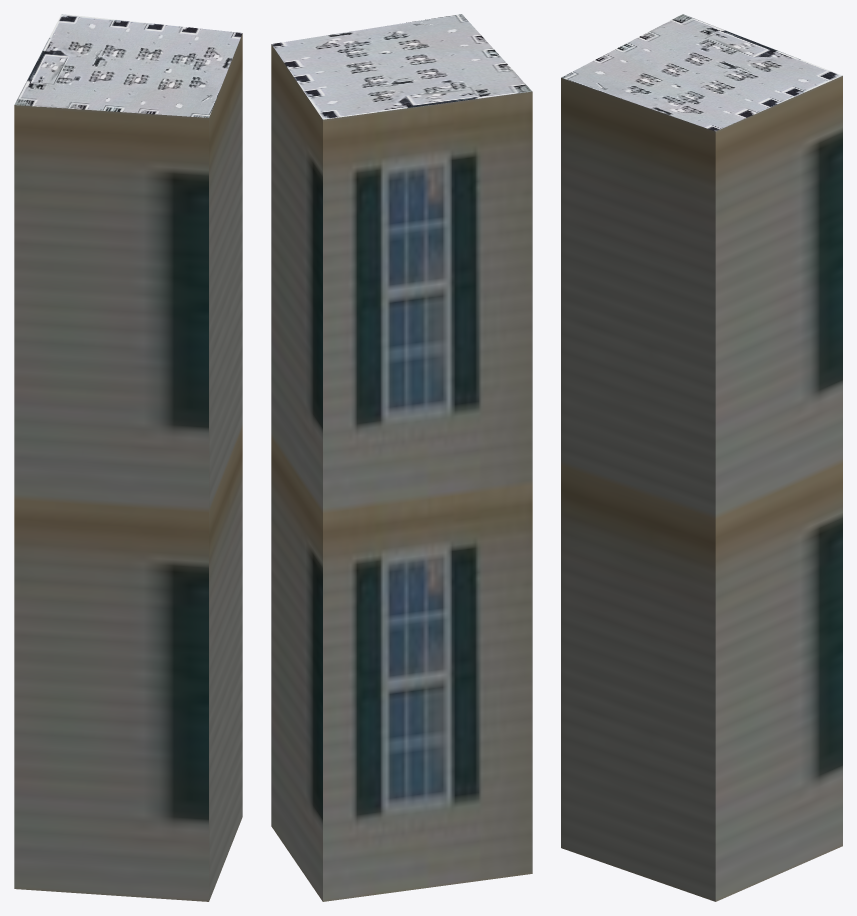
Rendered from ResTex__2142.fbx.
3 renders of one model, left to right at view 1: azimuth 30°, elevation 25°; view 2: azimuth 150°, elevation 25°; view 3: azimuth 270°, elevation 25°, orthographic.
Visible parts, largest first — view 1: CityEngineMaterial_7_m, CityEngineMaterial_2_m; view 2: CityEngineMaterial_7_m, CityEngineMaterial_2_m; view 3: CityEngineMaterial_7_m, CityEngineMaterial_2_m.
Part boxes in pixels (x1,y1,x2,y2): CityEngineMaterial_7_m: (14, 33, 242, 901); CityEngineMaterial_2_m: (14, 14, 242, 117); CityEngineMaterial_7_m: (271, 44, 532, 901); CityEngineMaterial_2_m: (271, 14, 532, 119); CityEngineMaterial_7_m: (561, 76, 842, 901); CityEngineMaterial_2_m: (561, 14, 842, 131).
Bounding box in the file's own units: 1.96 × 6 × 1.99.
2 materials, 2 textured.
